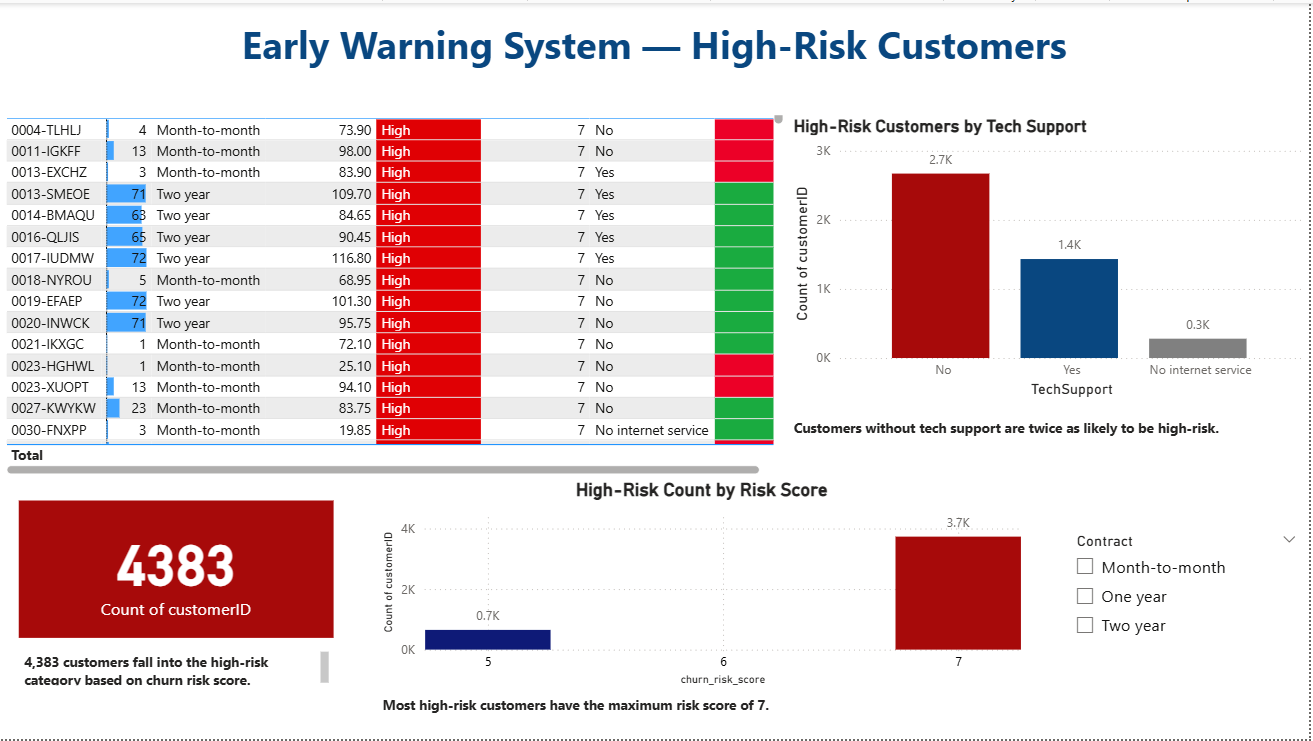

The dashboard page shown, as its layout file describes it:
{"tool":"powerbi","page":{"name":"Page 3","canvas":[1280,720],"ordinal":2},"visuals":[{"type":"tableEx","fields":{"Values":["early_warning_customers.customerID","early_warning_customers.tenure","early_warning_customers.Contract","early_warning_customers.MonthlyCharges","early_warning_customers.churn_risk_level","early_warning_customers.churn_risk_score","early_warning_customers.TechSupport","early_warning_customers.churn_flag"]},"box":[0,79.6,771.2,387],"z":0},{"type":"card","fields":{"Values":["Count(early_warning_customers.customerID)"]},"box":[18.3,486.7,308.2,134.5],"z":1000},{"type":"clusteredColumnChart","title":"High-Risk Count by Risk Score","fields":{"Category":["early_warning_customers.churn_risk_score"],"Y":["CountNonNull(early_warning_customers.customerID)"]},"box":[369.3,465.9,634.7,206.7],"z":2000},{"type":"textbox","box":[0,9.8,1280.3,100.3],"z":3000},{"type":"clusteredColumnChart","title":"High-Risk Customers by Tech Support","fields":{"Category":["early_warning_customers.TechSupport"],"Y":["CountNonNull(early_warning_customers.customerID)"]},"box":[771.6,110.1,508.7,281.3],"z":4000},{"type":"slicer","fields":{"Values":["early_warning_customers.Contract"]},"box":[1040.6,512.4,239.7,149.2],"z":5000},{"type":"textbox","box":[18.3,629.8,308.2,42.8],"z":5001},{"type":"textbox","box":[369.3,672.6,527,37.9],"z":5002},{"type":"textbox","box":[771.6,401.1,508.7,33],"z":5003}]}

Visuals, with their boxes in screenshot pixels (x1, y1, x2, y2), scaled from the page's 1280x720 canvas onto the 1313x741 screenshot:
tableEx - early_warning_customers.customerID x early_warning_customers.tenure: box(0, 82, 791, 480)
card - Count(early_warning_customers.customerID): box(19, 501, 335, 639)
"High-Risk Count by Risk Score" clusteredColumnChart: box(379, 479, 1030, 692)
textbox: box(0, 10, 1312, 113)
"High-Risk Customers by Tech Support" clusteredColumnChart: box(791, 113, 1312, 403)
slicer - early_warning_customers.Contract: box(1067, 527, 1312, 681)
textbox: box(19, 648, 335, 692)
textbox: box(379, 692, 919, 731)
textbox: box(791, 413, 1312, 447)
